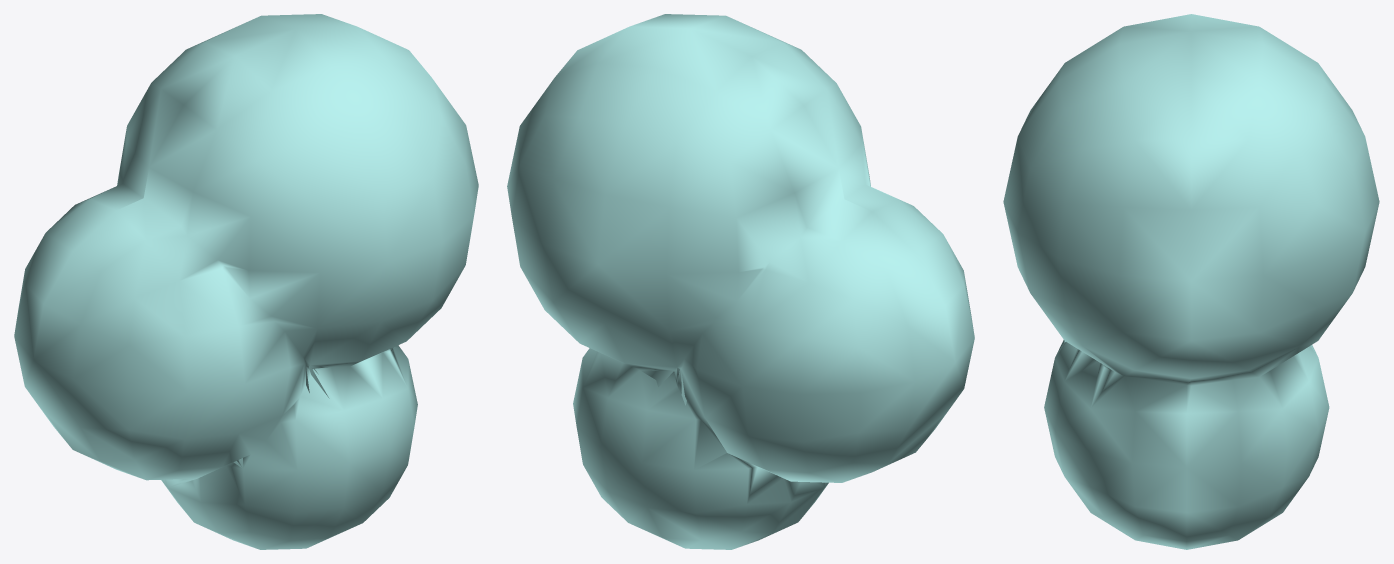
File: eff_foam_strayfoam03.fbx
3 renders of one model, left to right at view 1: azimuth 30°, elevation 25°; view 2: azimuth 150°, elevation 25°; view 3: azimuth 270°, elevation 25°, orthographic. The views are drawn at different scales.
Parts seen in each view (by area): view 1: foamSphere.001; view 2: foamSphere.001; view 3: foamSphere.001.
Part boxes in pixels (<box>): foamSphere.001: <box>14,14,478,549</box>; foamSphere.001: <box>507,14,974,549</box>; foamSphere.001: <box>1003,14,1379,549</box>.
Bounding box in the file's own units: 1.21 × 1.38 × 0.9166.
